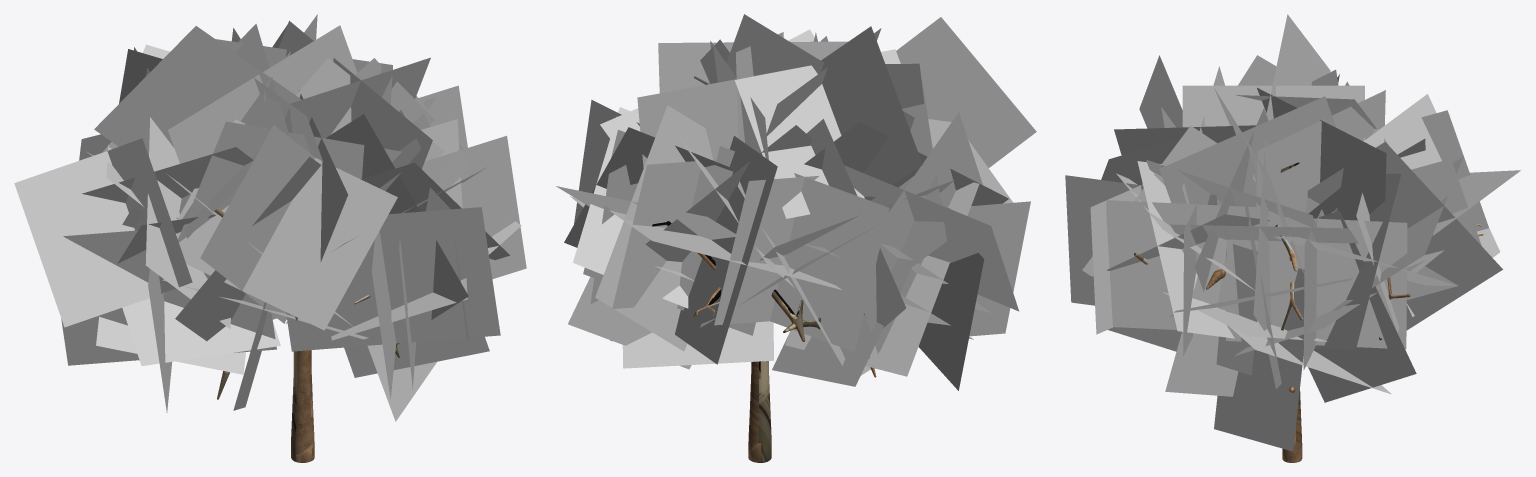
Rendered from derevo1.fbx.
3 renders of one model, left to right at view 1: azimuth 30°, elevation 25°; view 2: azimuth 150°, elevation 25°; view 3: azimuth 270°, elevation 25°, orthographic. The views are drawn at different scales.
Visible parts, largest first — view 1: Снимок экрана 2024-07-16 143943.035, Plane.003; view 2: Снимок экрана 2024-07-16 143943.035, Plane.003; view 3: Снимок экрана 2024-07-16 143943.035, Plane.003.
Part boxes in pixels (left/top/right/bottom): Снимок экрана 2024-07-16 143943.035: left=14, top=14, right=526, bottom=421; Plane.003: left=214, top=208, right=399, bottom=462; Снимок экрана 2024-07-16 143943.035: left=556, top=14, right=1036, bottom=390; Plane.003: left=579, top=76, right=876, bottom=462; Снимок экрана 2024-07-16 143943.035: left=1065, top=14, right=1520, bottom=451; Plane.003: left=1134, top=162, right=1483, bottom=462.
Size of the model in its own units: 3865 by 3850 by 3987.
